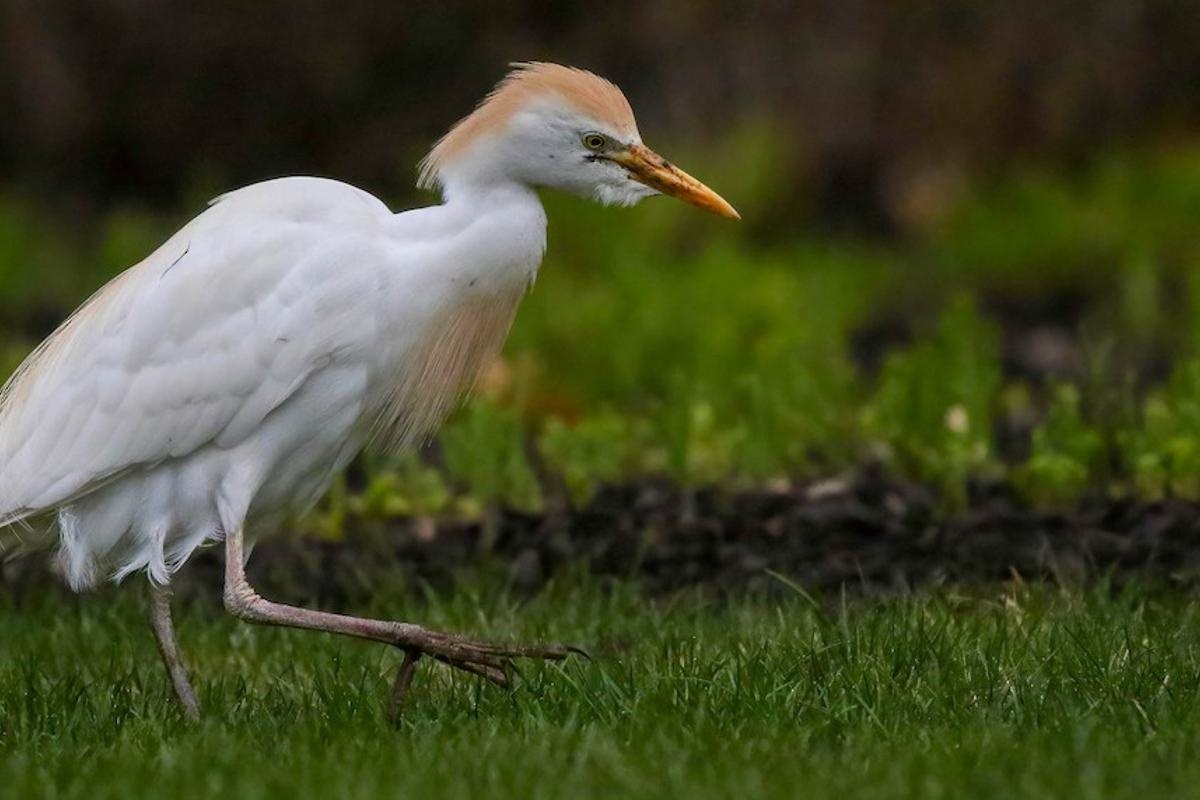egret: (1, 62, 739, 733)
